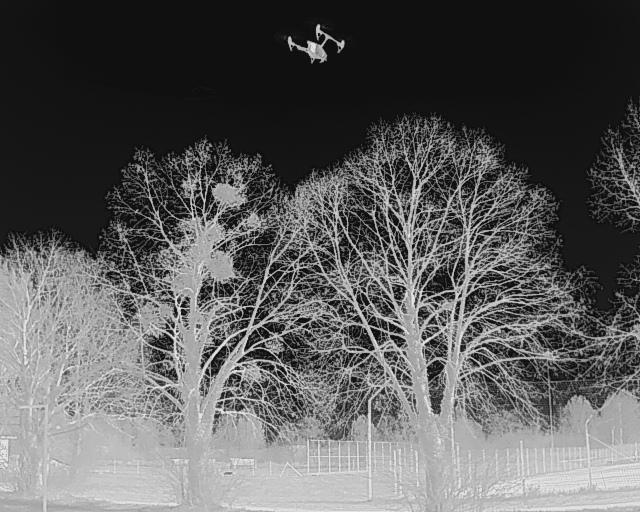drone: (278, 19, 349, 80)
